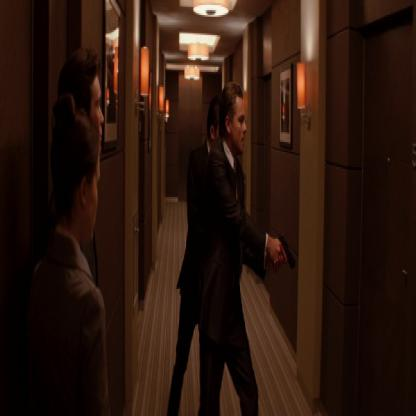Guns: (273, 229, 297, 274)
